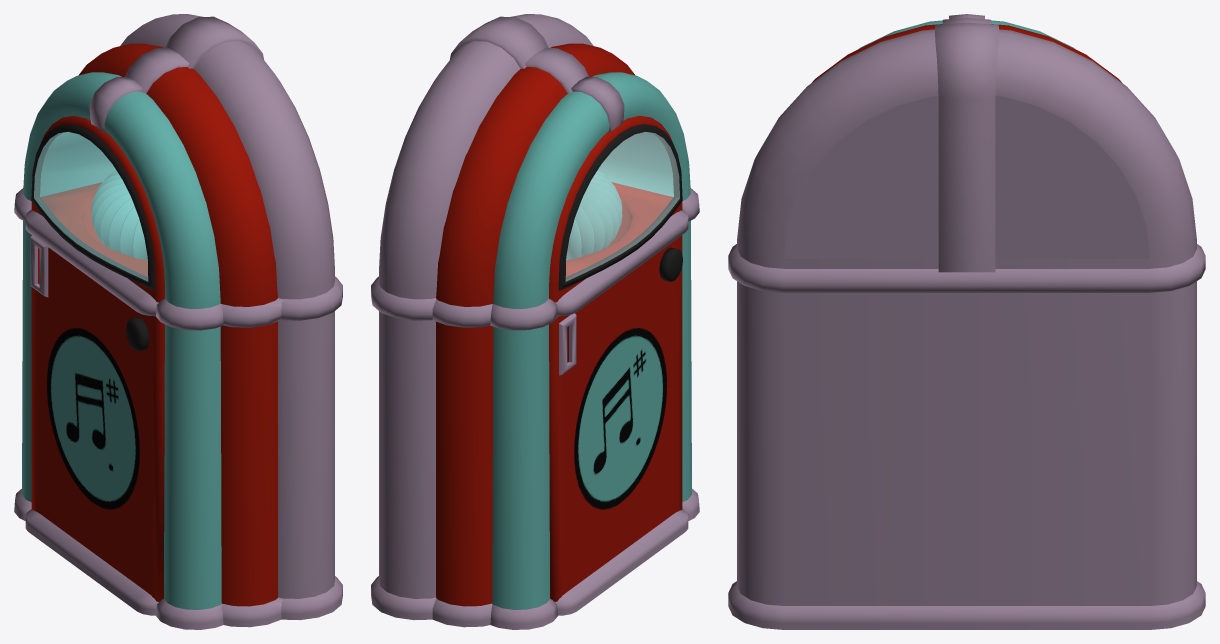
File: GB_083_jukebox.glb
3 renders of one model, left to right at view 1: azimuth 30°, elevation 25°; view 2: azimuth 150°, elevation 25°; view 3: azimuth 270°, elevation 25°, orthographic. The views are drawn at different scales.
Parts seen in each view (by area): view 1: Jukebox; view 2: Jukebox; view 3: Jukebox.
Part boxes in pixels (box(x1,y1,x2,y2)): Jukebox: box(14, 14, 342, 629); Jukebox: box(371, 14, 699, 629); Jukebox: box(728, 14, 1205, 629).
Bounding box in the file's own units: 0.7538 × 2.07 × 1.55.
6 materials, 1 textured.
